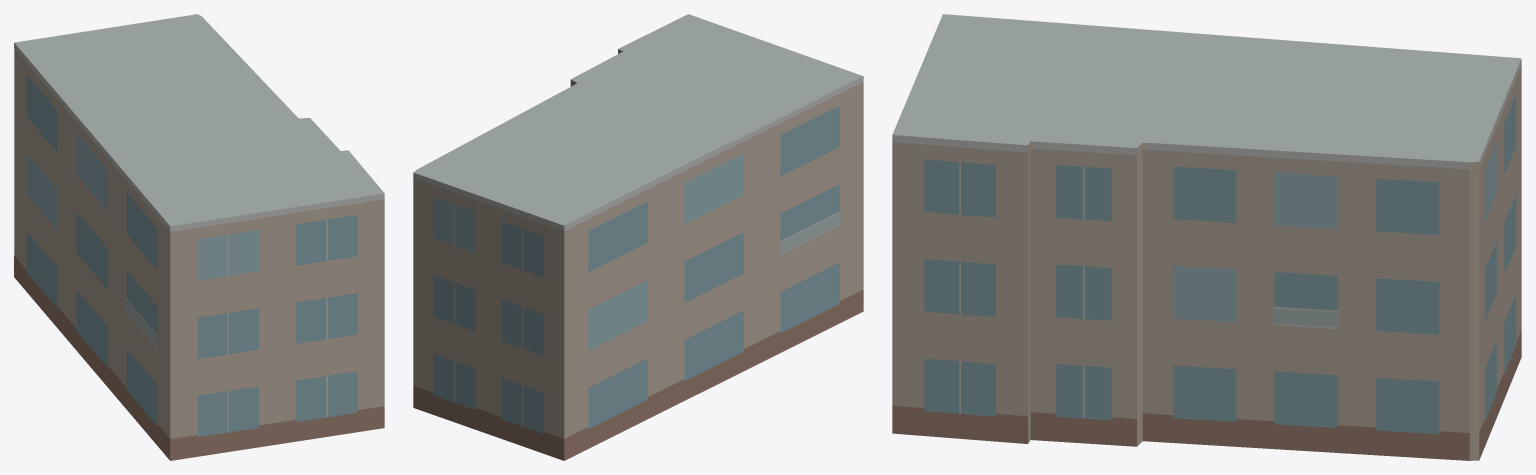
The model's file is survey-upis-32992478.glb.
The picture shows the model from 3 angles, left to right: view 1: azimuth 30°, elevation 25°; view 2: azimuth 150°, elevation 25°; view 3: azimuth 270°, elevation 25°; orthographic projection. The views are drawn at different scales.
Visible parts, largest first — view 1: survey-upis-32992478.tmp; view 2: survey-upis-32992478.tmp; view 3: survey-upis-32992478.tmp.
Part boxes in pixels (x1,y1,x2,y2): survey-upis-32992478.tmp: [14, 14, 384, 460]; survey-upis-32992478.tmp: [413, 14, 863, 460]; survey-upis-32992478.tmp: [892, 14, 1521, 460].
Bounding box in the file's own units: 10.87 × 10.2 × 19.49.
